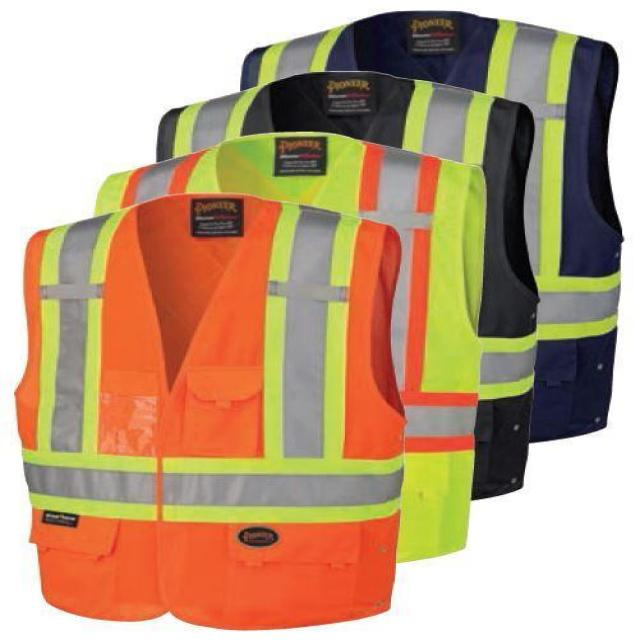Vest: (14, 196, 409, 632), (90, 130, 484, 559), (242, 10, 628, 445), (154, 69, 536, 498)
